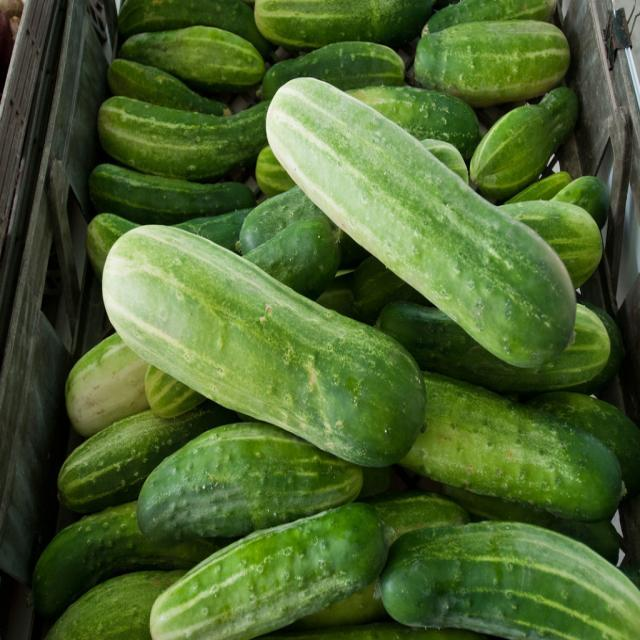Zucchini: (78, 71, 460, 504), (147, 496, 403, 640), (379, 513, 640, 639), (137, 416, 369, 550), (385, 398, 625, 516), (378, 305, 610, 400), (28, 498, 210, 614), (93, 95, 273, 178), (417, 13, 573, 107), (467, 79, 589, 185), (39, 569, 195, 639), (485, 199, 601, 292), (256, 36, 406, 101), (90, 161, 256, 215), (122, 28, 267, 88), (65, 335, 153, 421), (83, 219, 246, 265), (110, 53, 196, 103)
